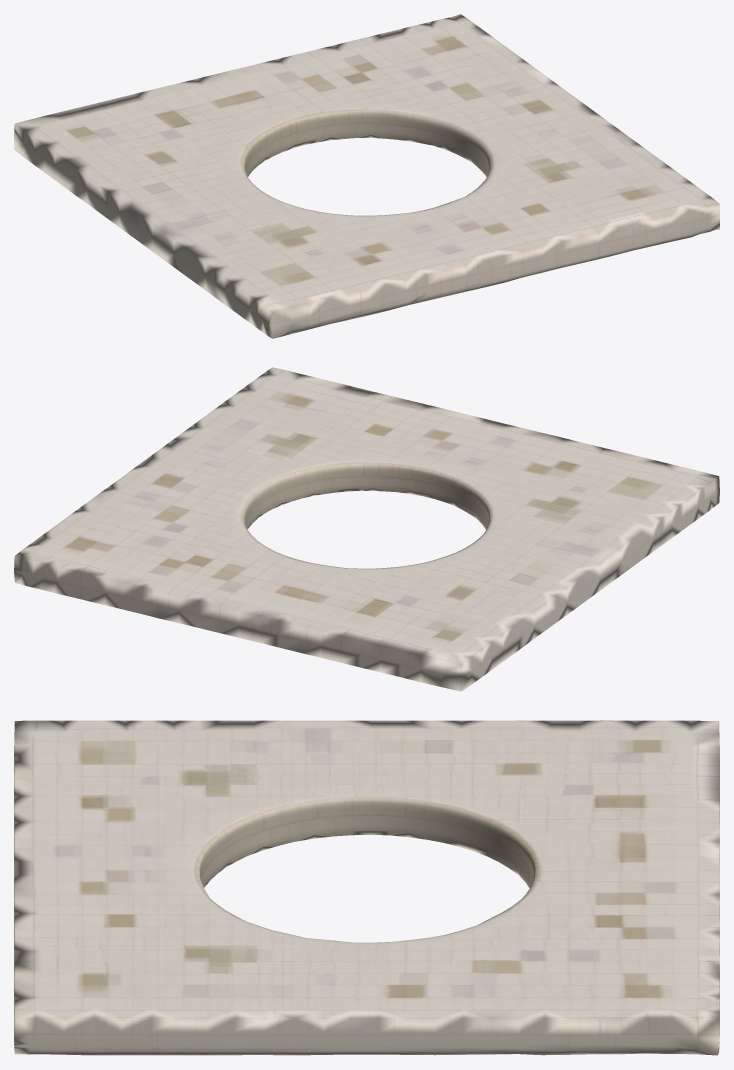
File: Meshy_AI_Geometric_Void_1231235735_texture.fbx
3 views of the same model, one above another, from view 1: azimuth 30°, elevation 25°; view 2: azimuth 150°, elevation 25°; view 3: azimuth 270°, elevation 25° (orthographic). The views are drawn at different scales.
Visible parts, largest first — view 1: Mesh0; view 2: Mesh0; view 3: Mesh0.
Part boxes in pixels (left/top/right/bottom): Mesh0: left=14, top=14, right=719, bottom=338; Mesh0: left=14, top=367, right=719, bottom=691; Mesh0: left=14, top=720, right=719, bottom=1055.
Size of the model in its own units: 192 by 11.79 by 192.
1 material, 1 textured.
